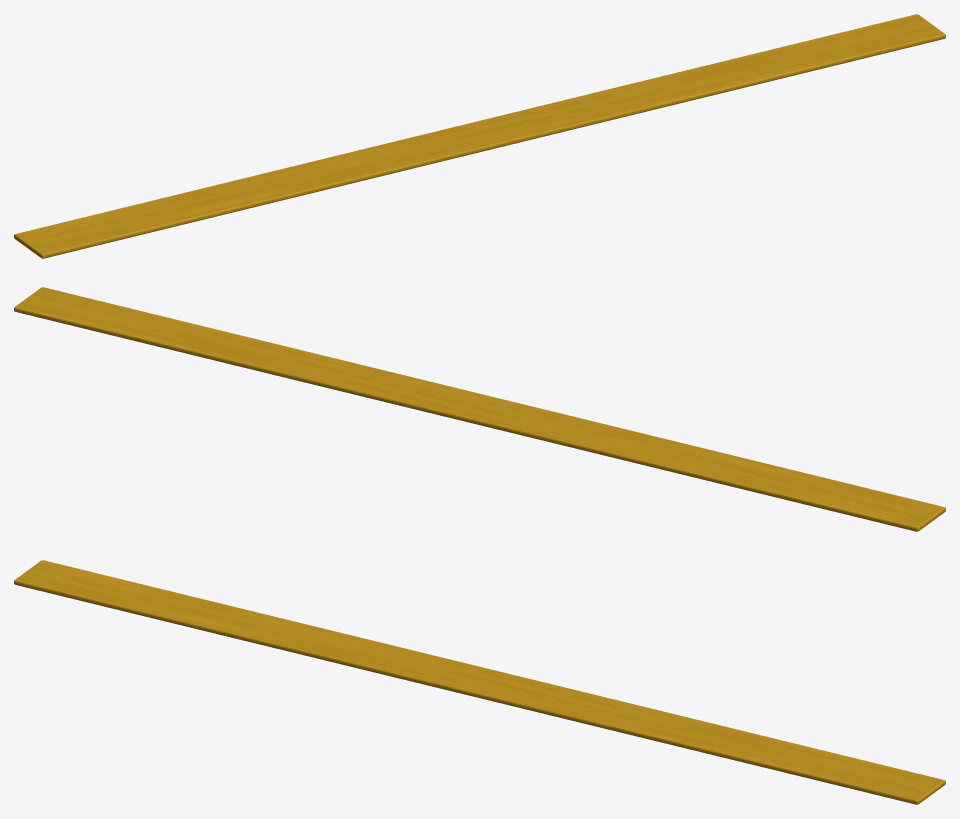
File: base_floor_stripe.glb
3 views of the same model, one above another, from view 1: azimuth 30°, elevation 25°; view 2: azimuth 150°, elevation 25°; view 3: azimuth 330°, elevation 25° (orthographic).
Parts seen in each view (by area): view 1: base_floor_stripe.001; view 2: base_floor_stripe.001; view 3: base_floor_stripe.001.
Part boxes in pixels (bbox=[...]): base_floor_stripe.001: bbox=[14, 14, 945, 258]; base_floor_stripe.001: bbox=[14, 287, 945, 531]; base_floor_stripe.001: bbox=[14, 560, 945, 804].
Bounding box in the file's own units: 4 × 0.02 × 0.22.
Materials: 1 (1 with a texture image).
